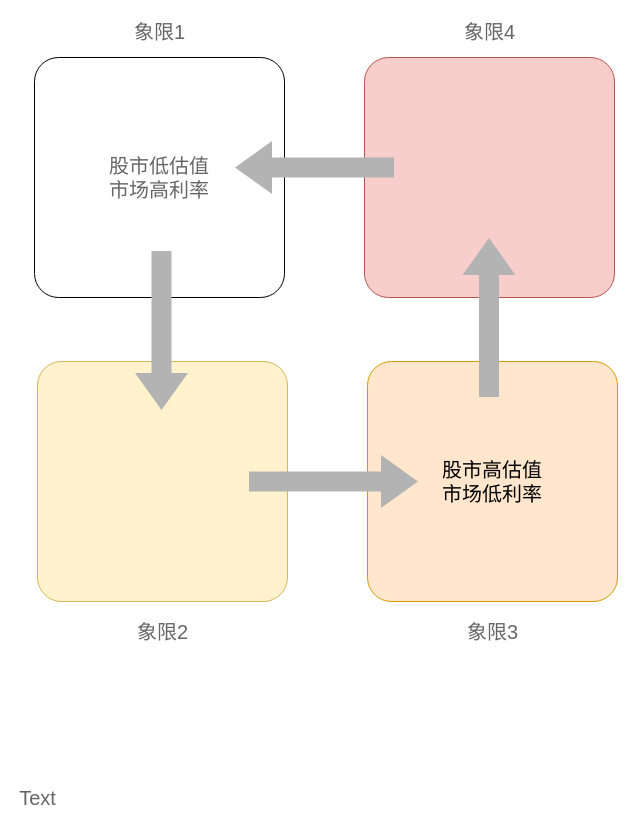
The diagram is 635 pixels wide and 826 high, and some of its shapes have lost their labels. Each missing label, with the centre of its shape:
股市低估值 市场低利率: [162,481]
股市高估值 市场高利率: [489,177]
